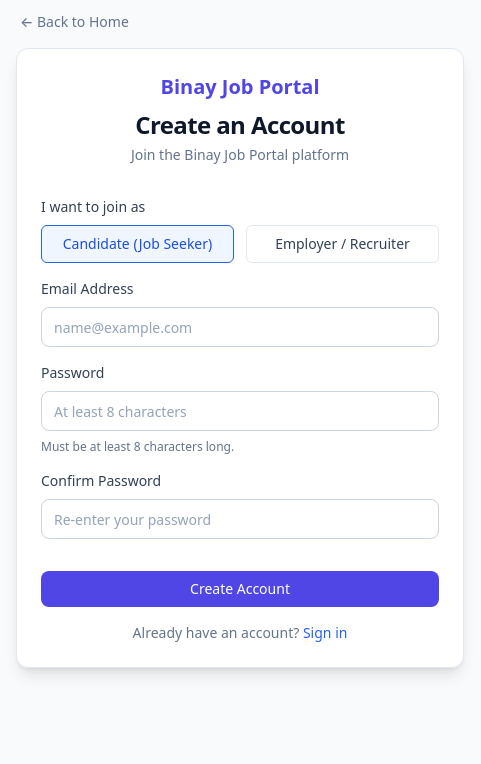
Test: Batch 2 Auth Pages & Flow Test Suite › Signup Page › enforces password mismatch validation error when passwords do not match
The image size is (481, 764).
Type "newuser@example.com" into the field with test id "signup-email-input". click: (240, 327)
box: [41, 307, 439, 347]
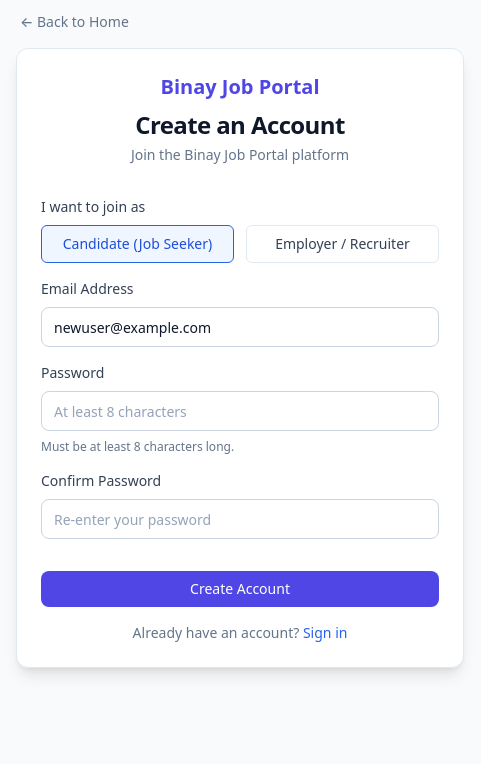
Type "ValidPass123!" into the password field with test id "signup-password-input". click: (240, 411)
box: [41, 391, 439, 431]
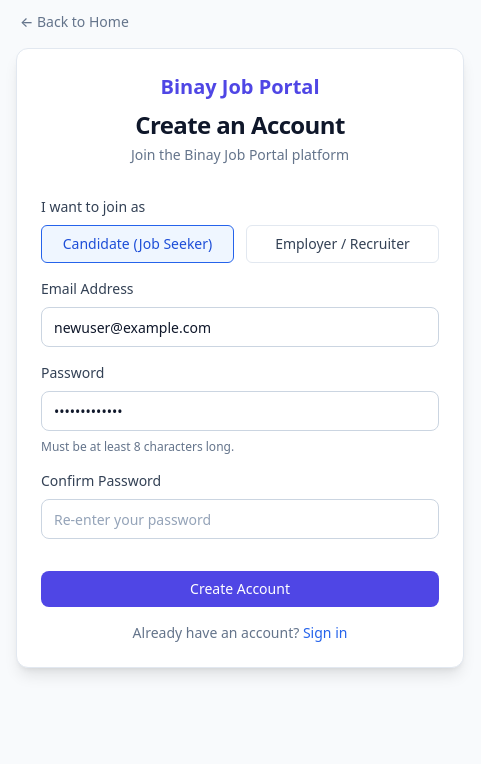
Type "DifferentPass123!" into the password field with test id "signup-confirm-password-input". click: (240, 519)
box: [41, 499, 439, 539]
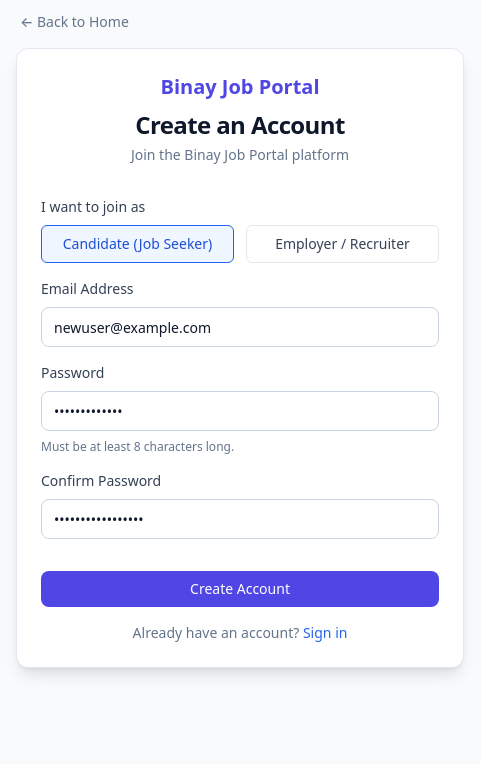
Submit the form with test id "signup-form", box [41, 181, 439, 643]
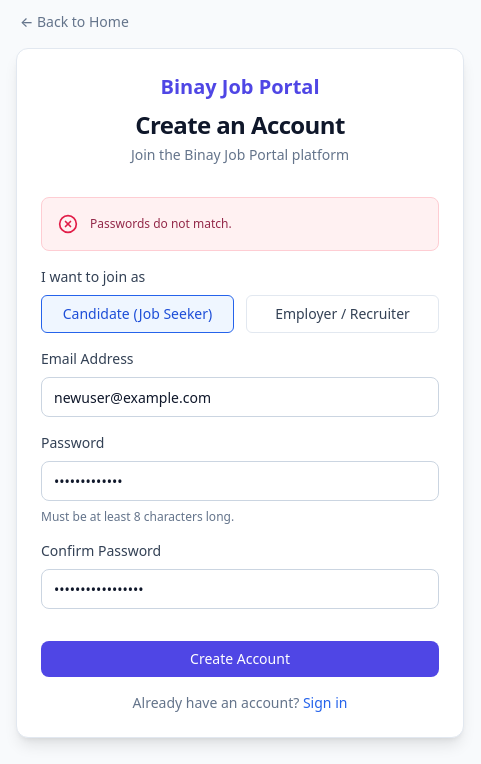
Check: the message "Passwords do not match." is shown, box [41, 197, 439, 251]
Check: the text "Passwords do not match." is shown, box [90, 215, 232, 232]
